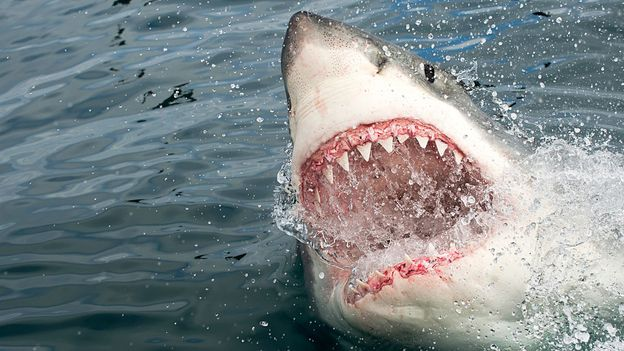shark: (268, 13, 587, 320)
